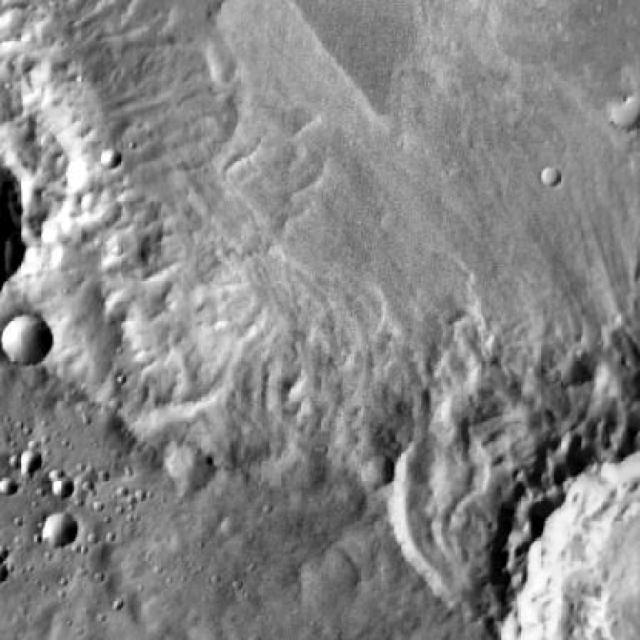crater: (3, 315, 51, 370), (41, 512, 77, 546), (609, 95, 640, 126), (20, 450, 42, 473), (538, 166, 560, 189), (52, 479, 72, 499), (103, 151, 119, 166)
